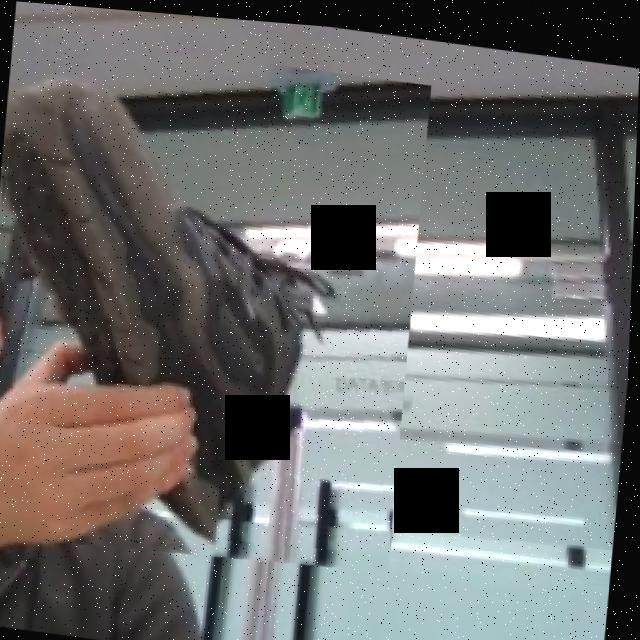shoe: (0, 28, 432, 584)
